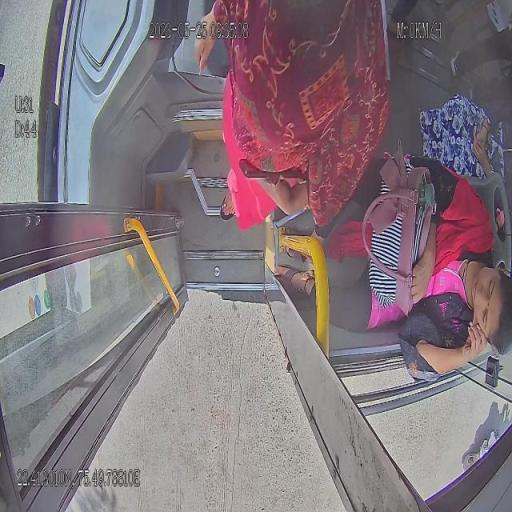persona: (273, 143, 511, 382), (194, 0, 391, 232), (419, 92, 506, 182)
